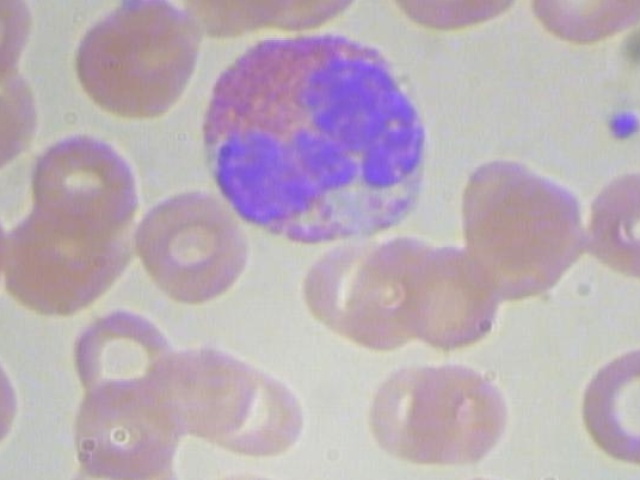Platelets: (604, 98, 640, 146)
RBC: (64, 0, 205, 125), (400, 355, 521, 473), (130, 188, 251, 305), (65, 368, 187, 480), (391, 239, 510, 352), (359, 353, 461, 473), (144, 343, 256, 435), (576, 163, 640, 291), (581, 335, 640, 468), (529, 0, 640, 49)
WBC: (194, 28, 432, 257)
